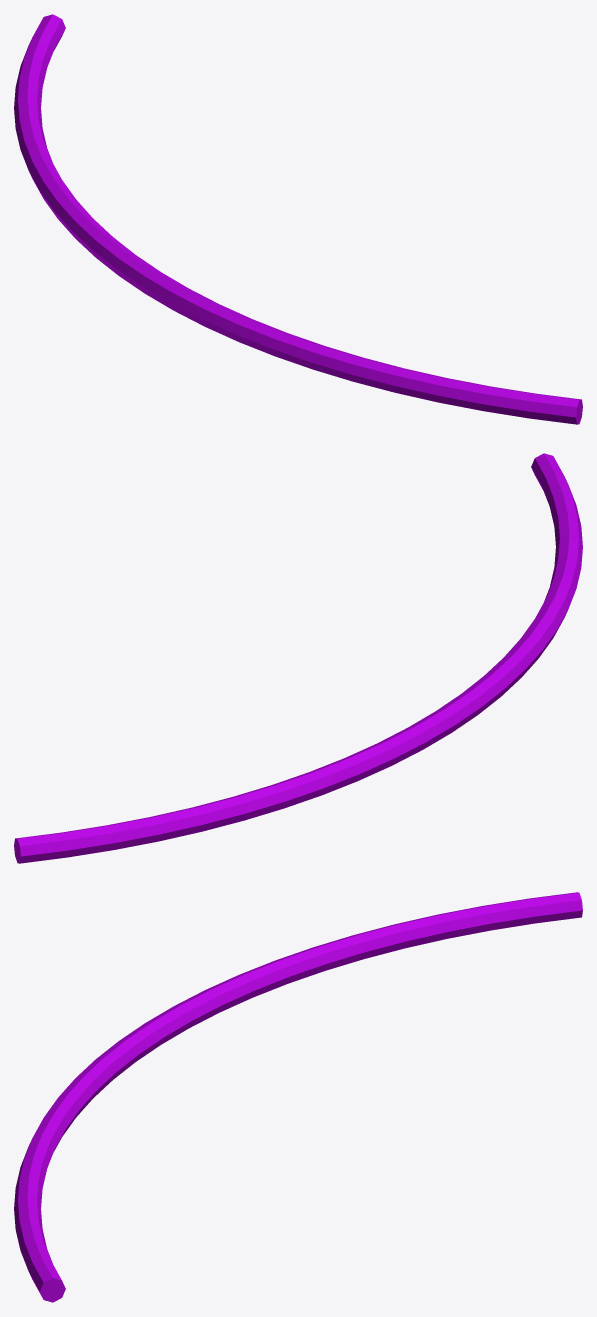
File: Rope_02.fbx
3 views of the same model, one above another, from view 1: azimuth 30°, elevation 25°; view 2: azimuth 150°, elevation 25°; view 3: azimuth 330°, elevation 25° (orthographic).
Visible parts, largest first — view 1: Rope_02; view 2: Rope_02; view 3: Rope_02.
Boxes of the visible parts, x1=… form: Rope_02: x1=14, y1=14, x2=582, y2=424; Rope_02: x1=14, y1=453, x2=582, y2=863; Rope_02: x1=14, y1=892, x2=582, y2=1302.
Size of the model in its own units: 121 by 13.56 by 538.
